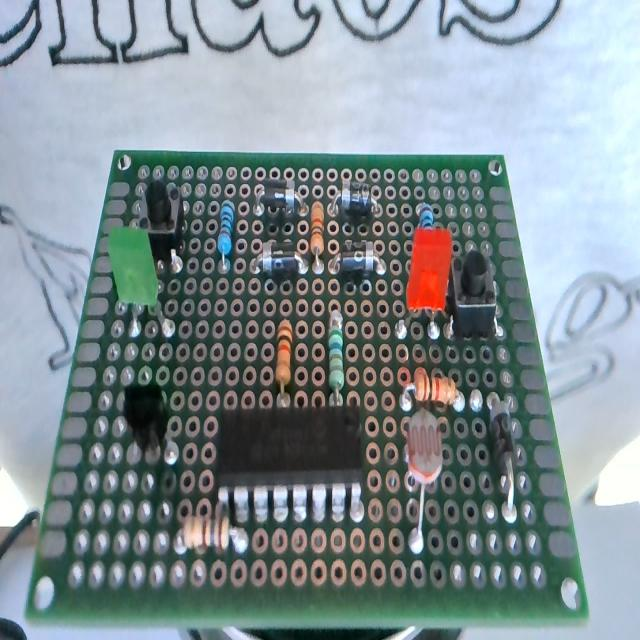cds: (398, 404, 441, 552)
diode: (486, 388, 520, 514), (249, 243, 307, 284), (250, 178, 303, 218), (328, 241, 386, 276), (333, 178, 382, 216)
led: (102, 223, 180, 333), (404, 228, 450, 335)
resistor: (173, 510, 255, 562), (400, 374, 465, 414), (324, 309, 348, 401), (306, 196, 329, 288), (273, 310, 295, 404), (215, 194, 237, 276)
switch: (446, 249, 510, 340), (132, 172, 186, 260)
transistor: (115, 377, 177, 467)
